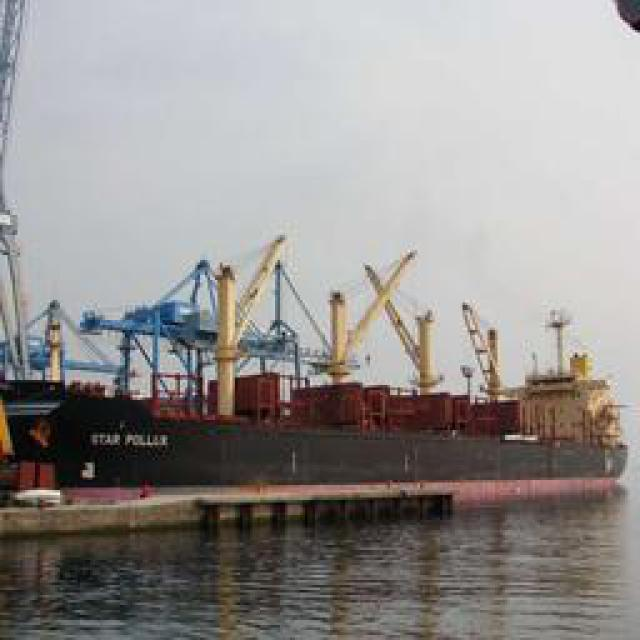Ship: (19, 234, 632, 484)
